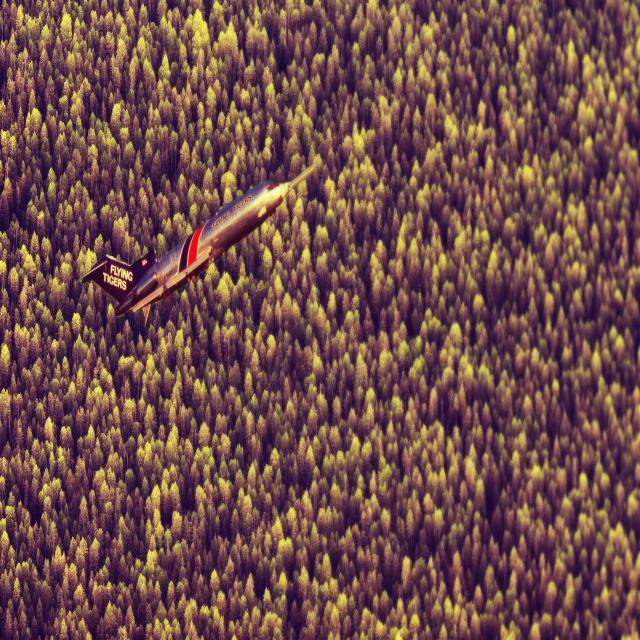airplane: (79, 162, 316, 328)
